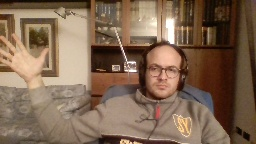Mano_aperta: (0, 31, 51, 82)
